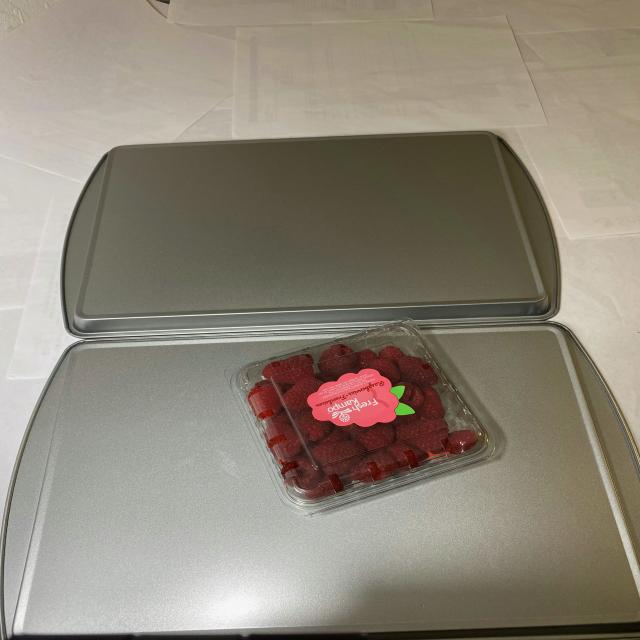Raspberry: (248, 346, 482, 486)
